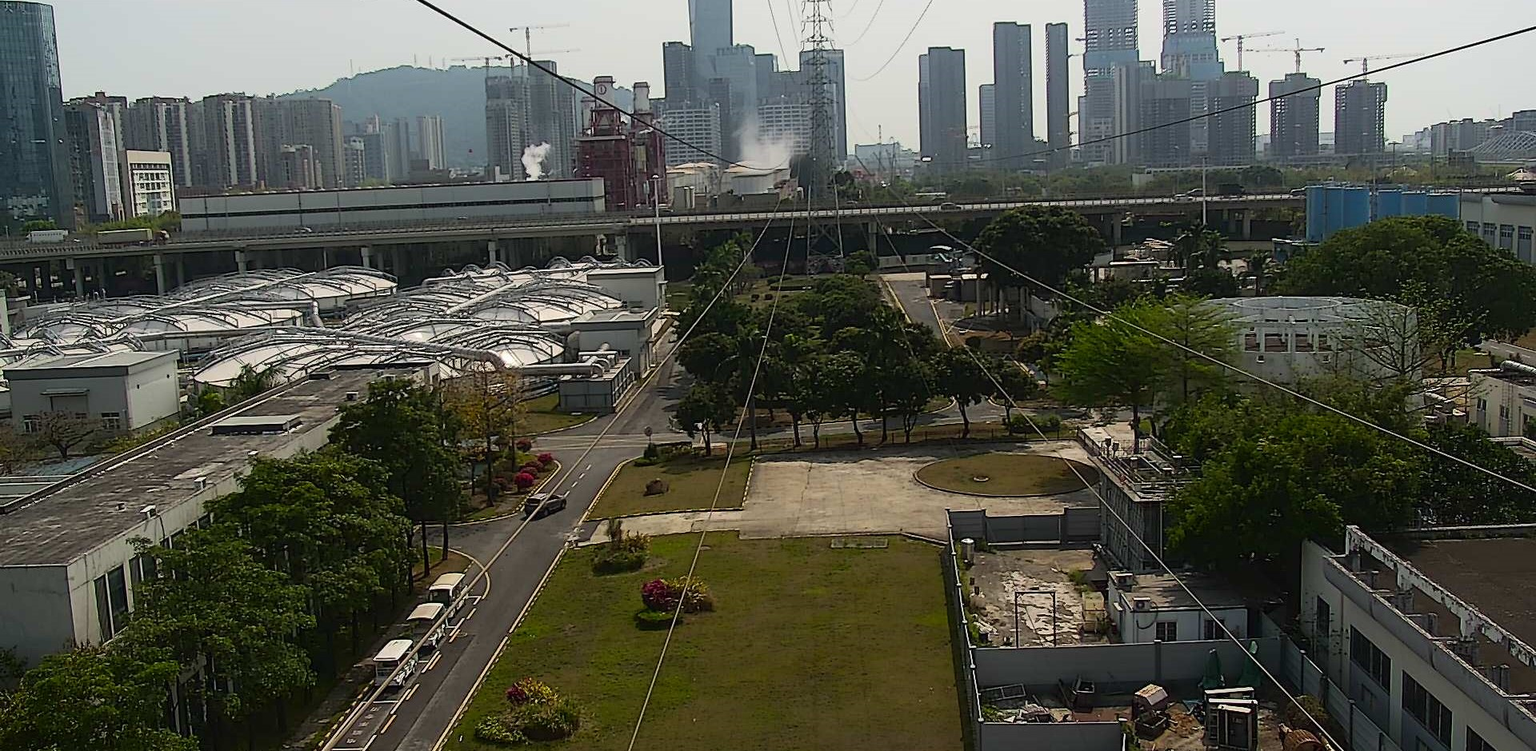工厂排烟: (729, 101, 798, 174), (519, 139, 553, 181)
